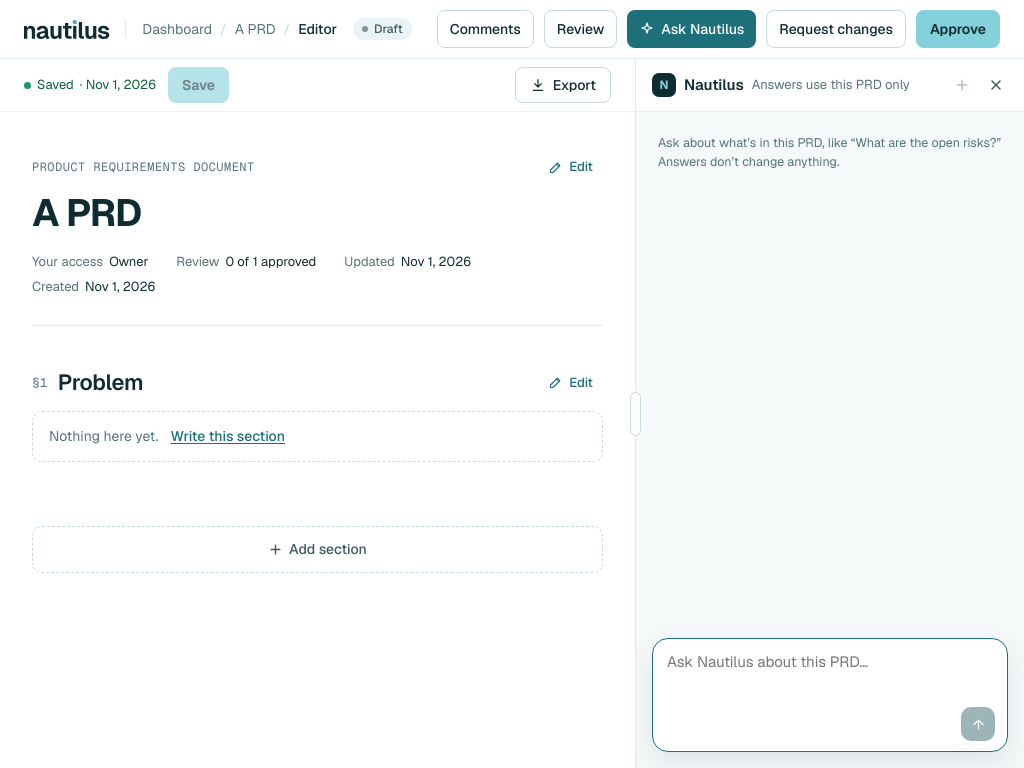
Test: the side panel › opens on Review when a reviewer heads for their decision
The width and height of the screenshot is (1024, 768).
Click the button "Approve" at (958, 29), box [916,10,1000,48]
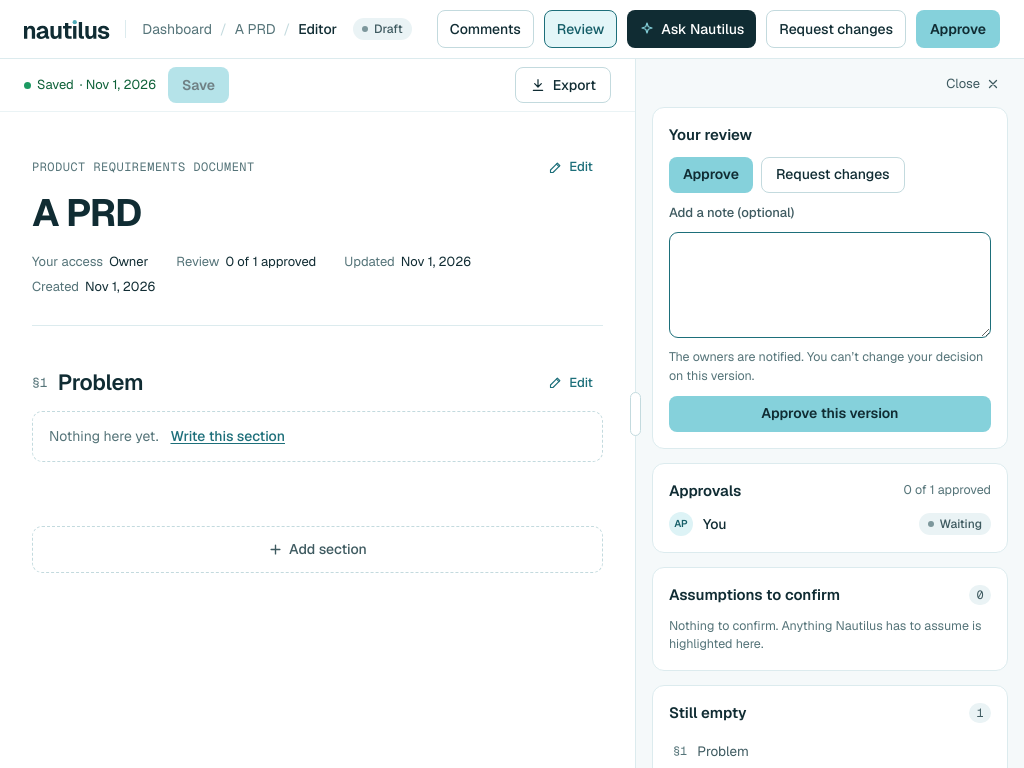
expect the element with class "ne-panel" shows "Your review": met, box [669,125,752,144]
